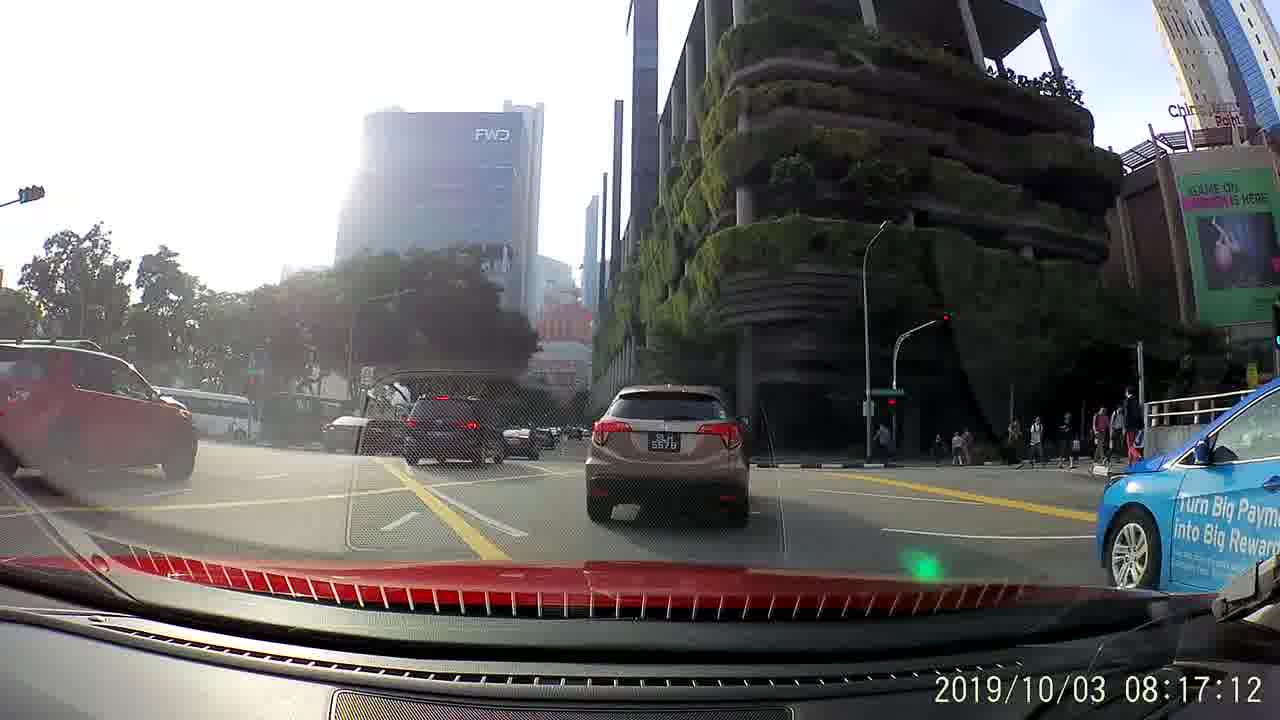bus: (149, 385, 263, 443)
car: (1091, 350, 1277, 586), (3, 338, 201, 485), (585, 381, 753, 531), (400, 390, 508, 470), (321, 408, 392, 455), (498, 425, 541, 460), (532, 428, 556, 448), (563, 423, 581, 441)
